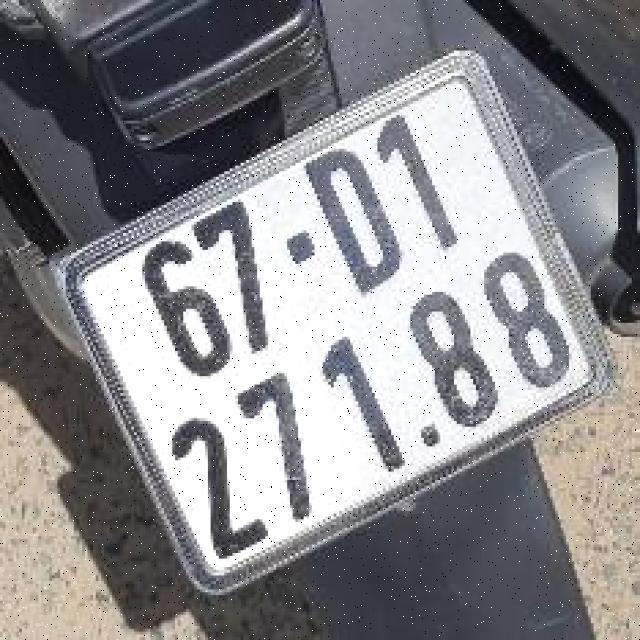1: (301, 321, 422, 488), (358, 107, 479, 267)
2: (153, 395, 287, 577)
6: (129, 230, 246, 391)
7: (184, 195, 298, 367), (221, 360, 334, 532)
8: (462, 240, 590, 405), (394, 279, 513, 444)
D: (289, 132, 419, 309)
